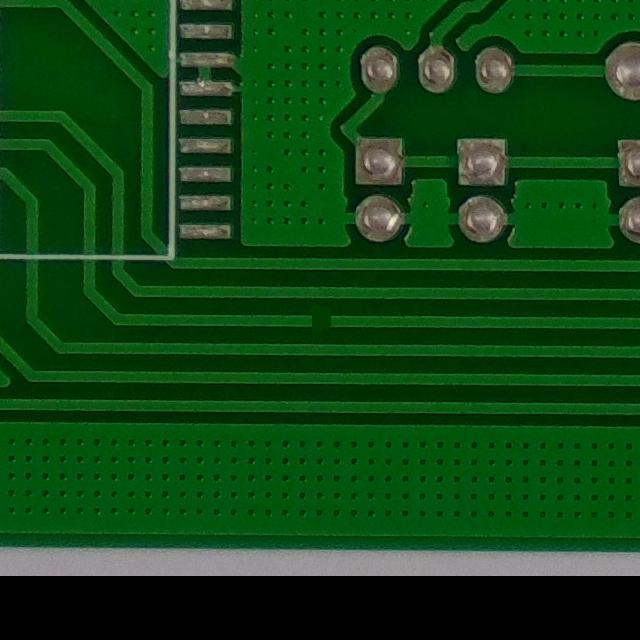open_circuit: (303, 302, 338, 339)
